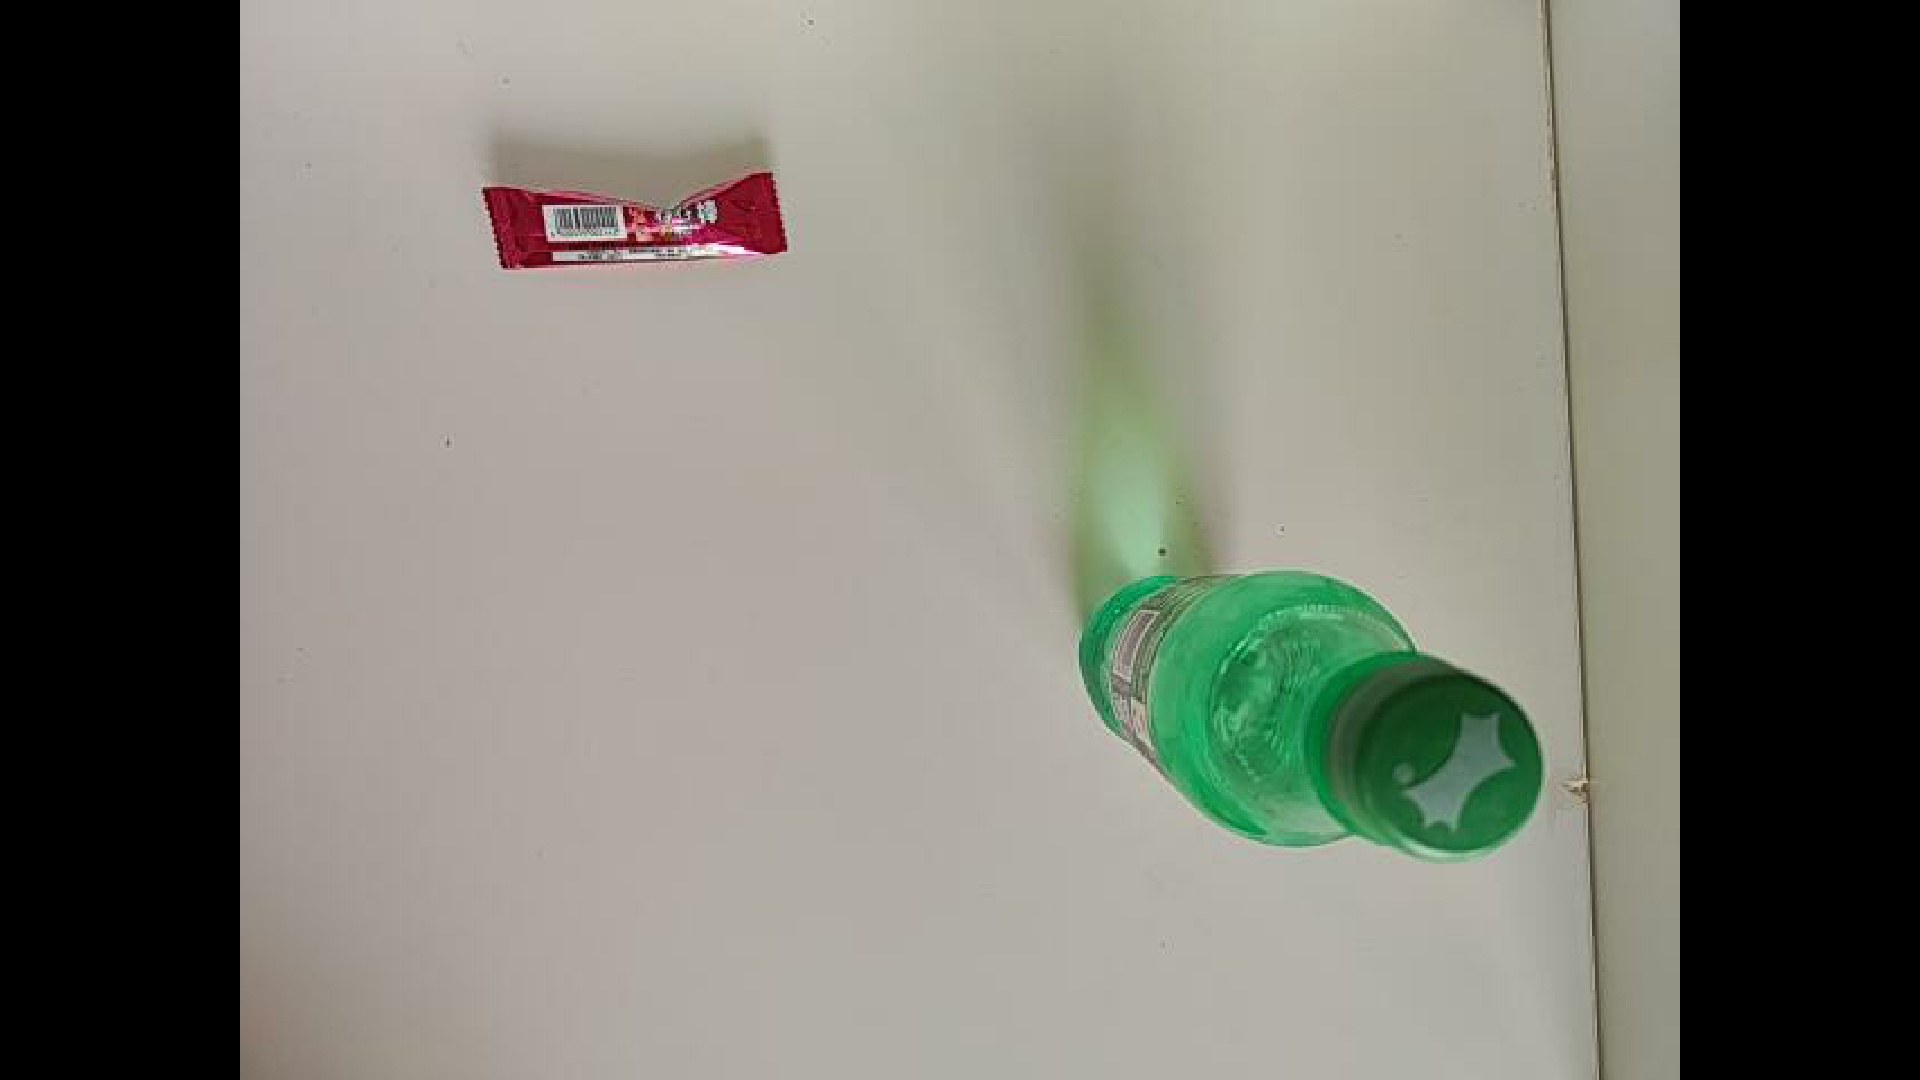sugar: (1076, 567, 1544, 866), (479, 170, 789, 272)
